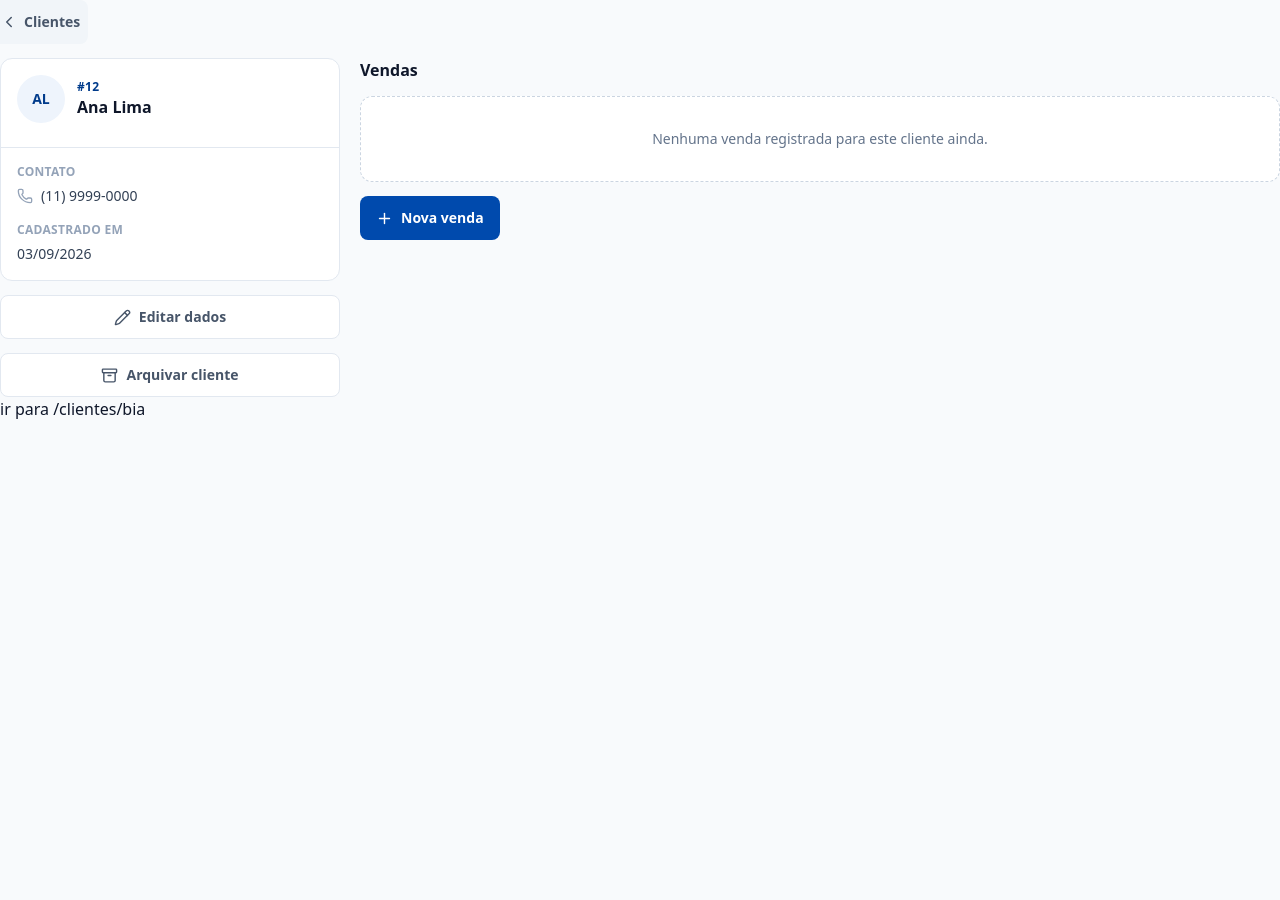
it: ClientePage montada › "Editar dados" abre a edição preenchida, e fechar a desmonta
Step 1. Click the button "Editar dados" → x=170, y=317, box 0,295 -> 340,339
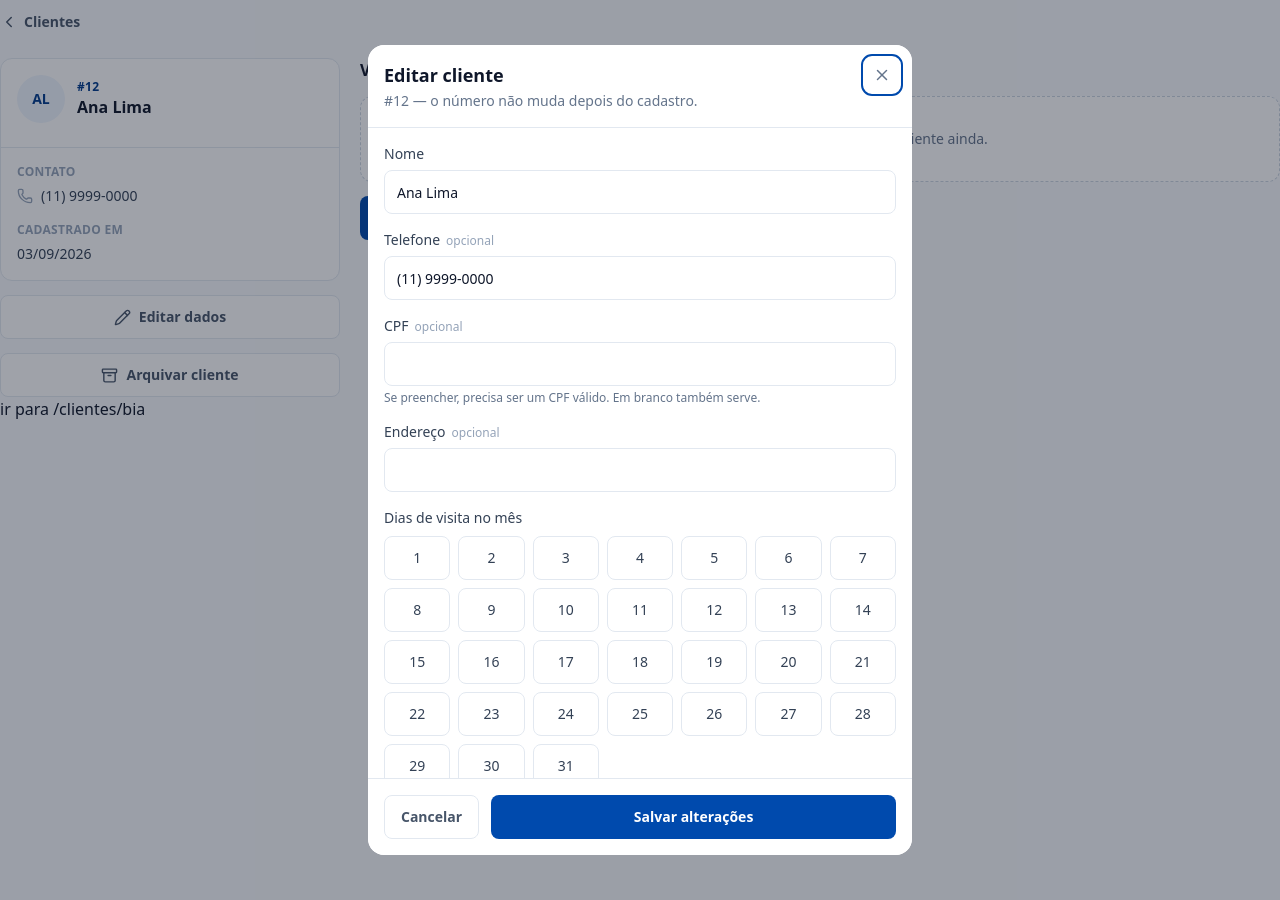
Now the heading "Editar cliente" is shown, box 384,63 -> 504,87
Now the field labelled "Nome" holds "Ana Lima", box 384,170 -> 896,214
Step 2. Click the button "Cancelar" → x=432, y=817, box 384,795 -> 479,839
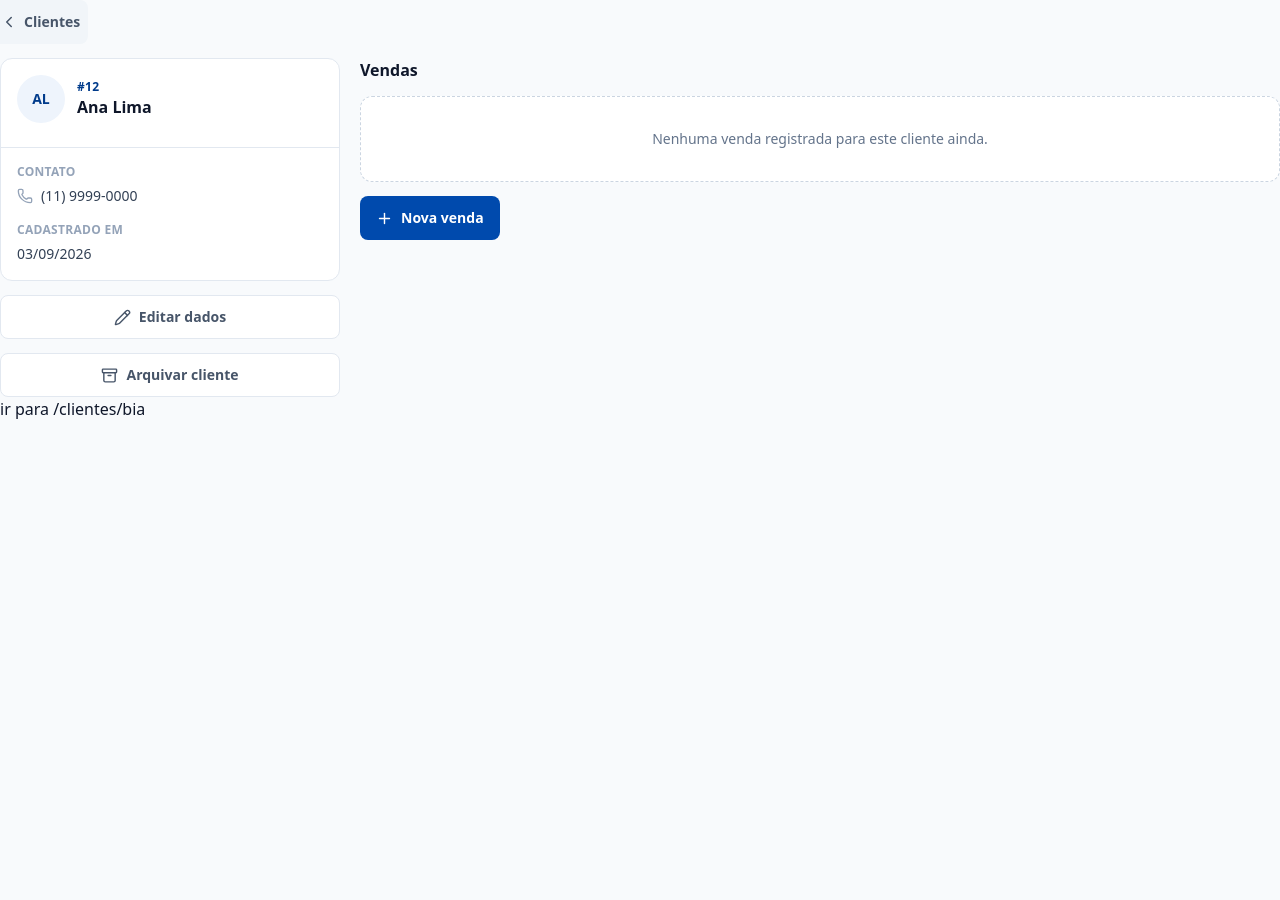
Now the dialog is gone
